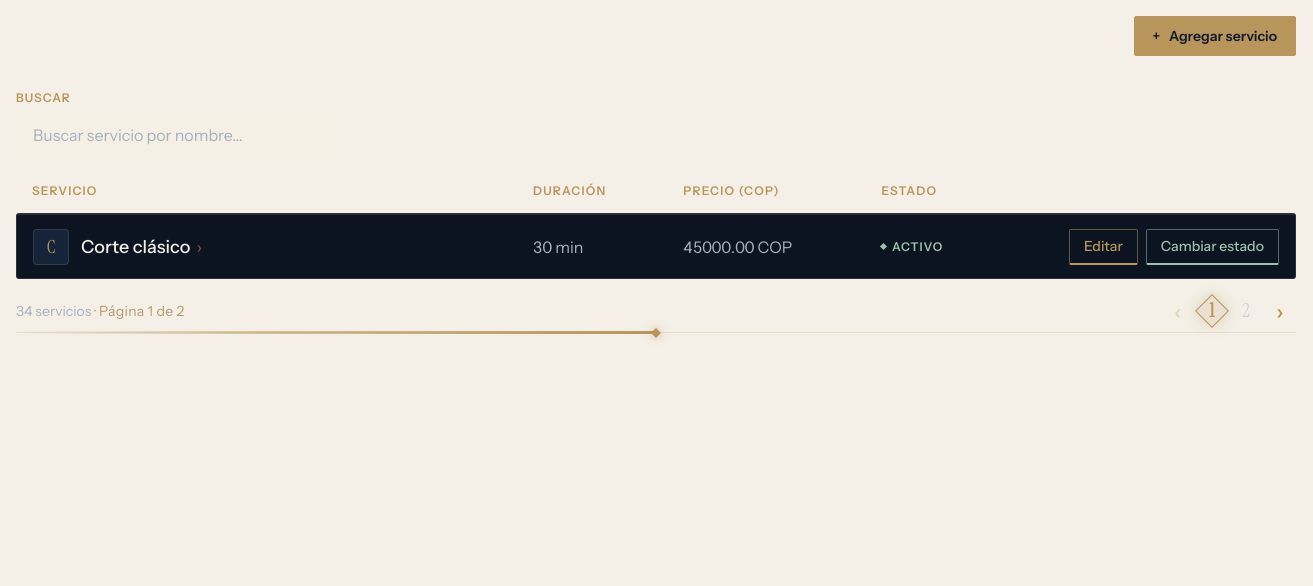
Scenario: CatalogPage › shows a search-specific empty state distinct from a genuinely empty catalog
This screenshot has width=1313, height=586.
Type "zzz-sin-coincidencias" into the search field named "serviceSearch".
click(176, 135); type("zzz-sin-coincidencias")  # box [16,113,336,157]
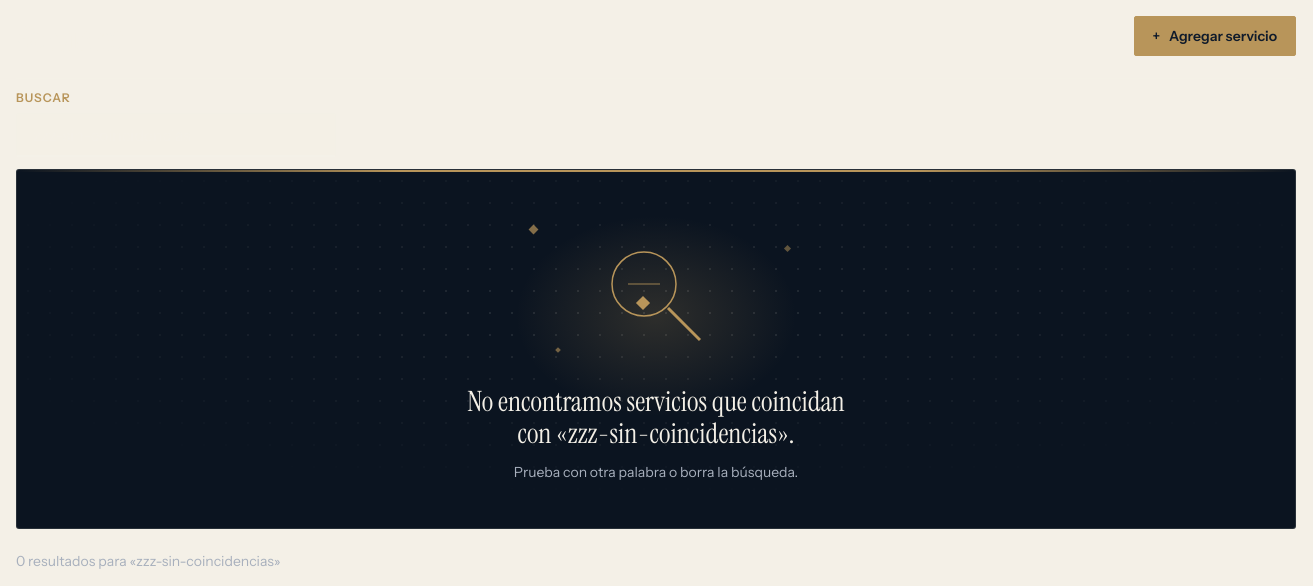
Expected: the text "No encontramos servicios que coincidan con" is shown, [467,383,845,452]
